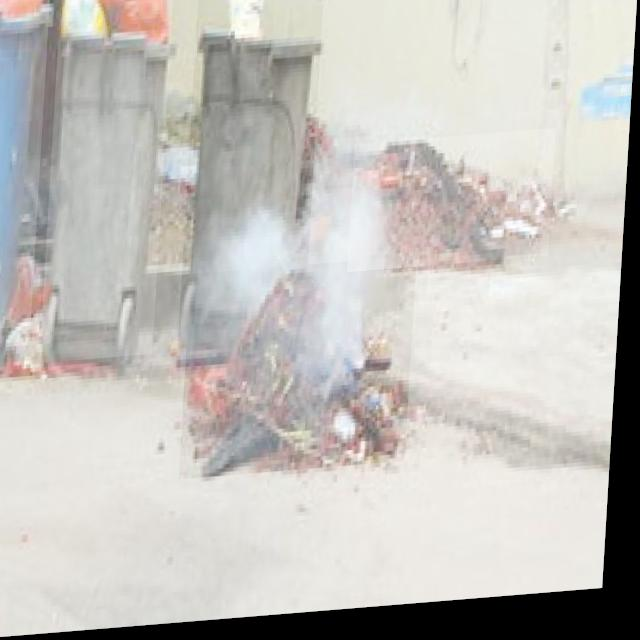garbage: (185, 263, 421, 483), (351, 138, 558, 279)
overflow: (182, 0, 325, 352), (44, 0, 174, 364), (0, 0, 50, 330)
